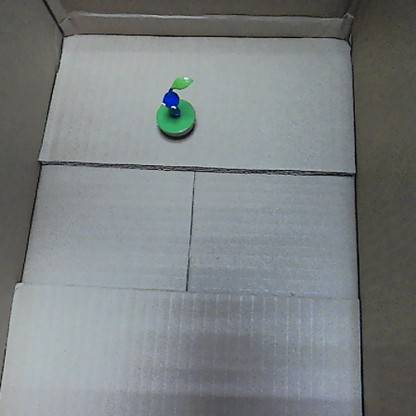leafairy: (152, 75, 199, 138)
